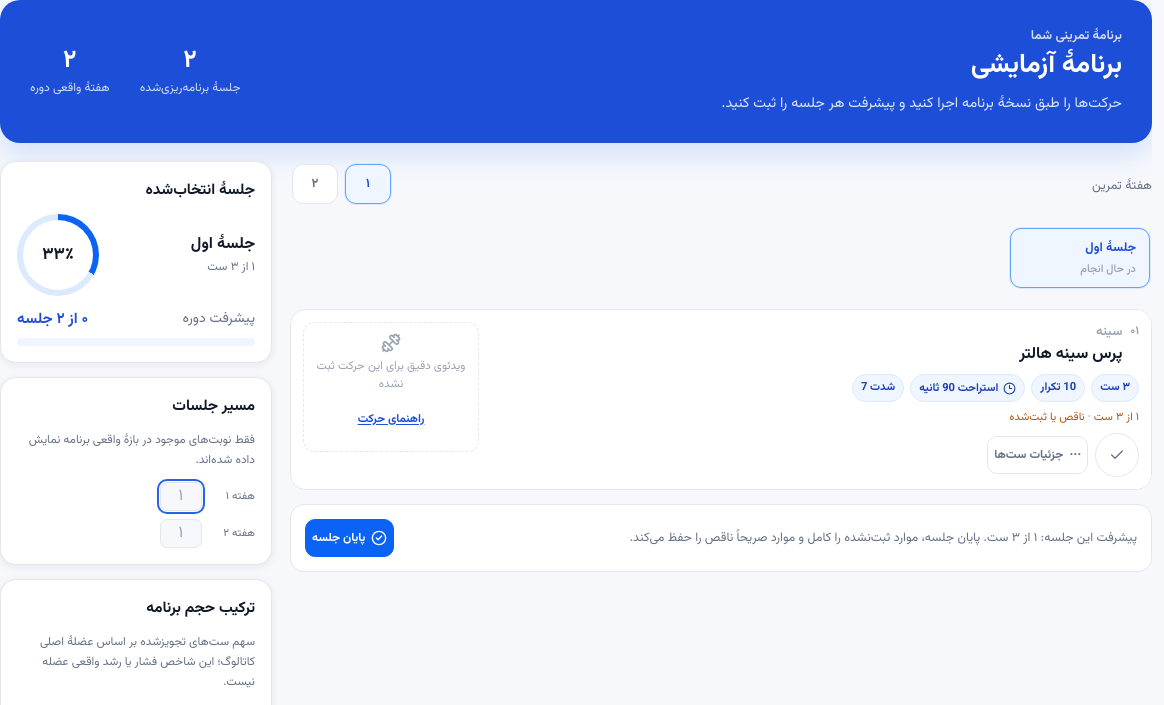
Test: InteractiveWorkout › shows a save error and rolls back optimistic completion
Click the button named "ثبت همهٔ ست‌های پرس سینه هالتر": {"x": 1117, "y": 455} top-left (1095, 433), bottom-right (1139, 477)
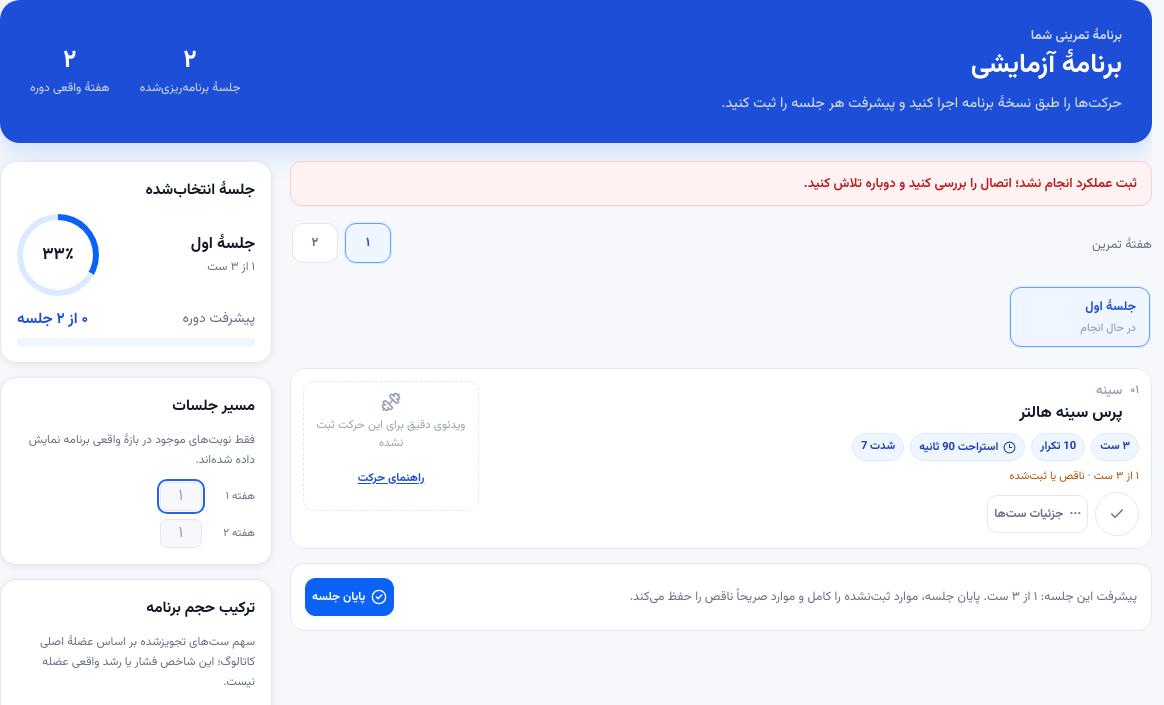
expect the text "۱ از ۳ ست · ناقص یا ثبت‌شده" is shown: met, box top-left (1009, 468), bottom-right (1139, 485)
expect the message shows "ثبت عملکرد انجام نشد": met, box top-left (804, 173), bottom-right (1137, 194)
